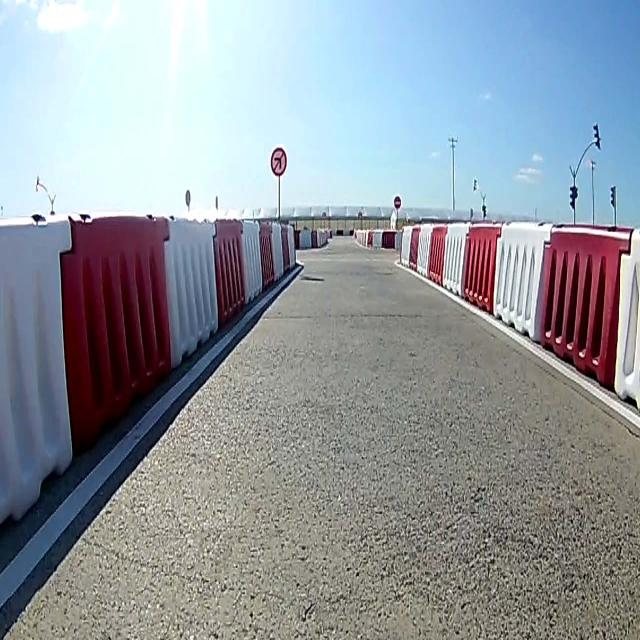girisyok: (393, 194, 402, 210)
soladonulmez: (270, 146, 287, 177)
